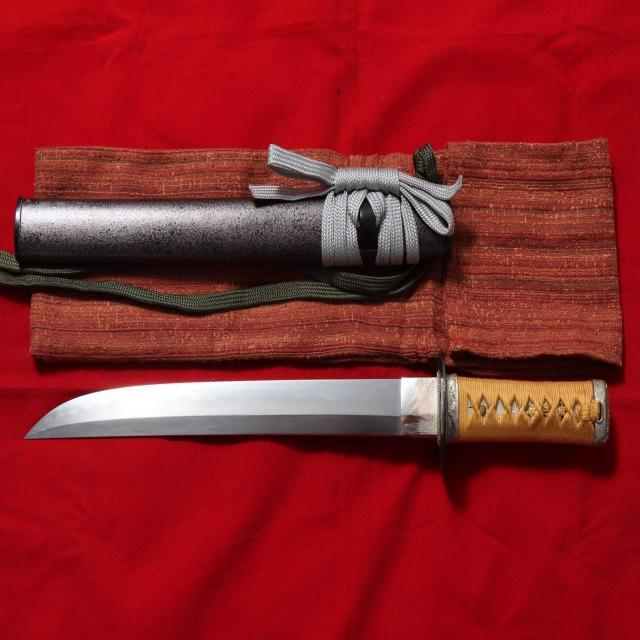short sword: (19, 367, 626, 466)
